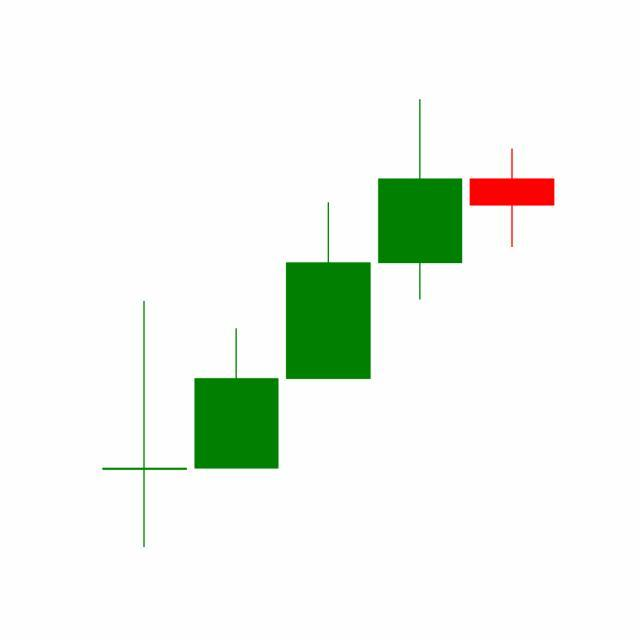Spinning Top: (466, 149, 559, 250)
